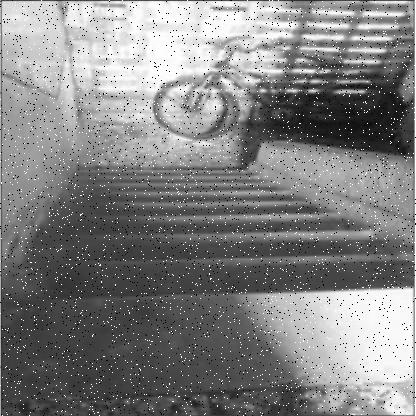stair_down: (55, 199, 341, 354)
